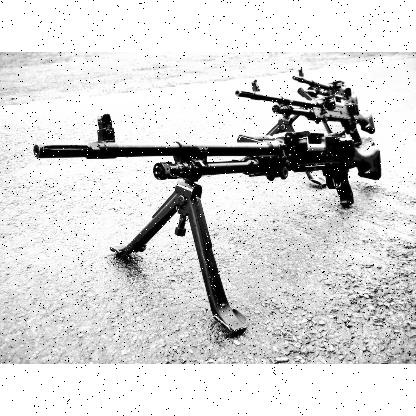gun: (33, 67, 381, 333)
